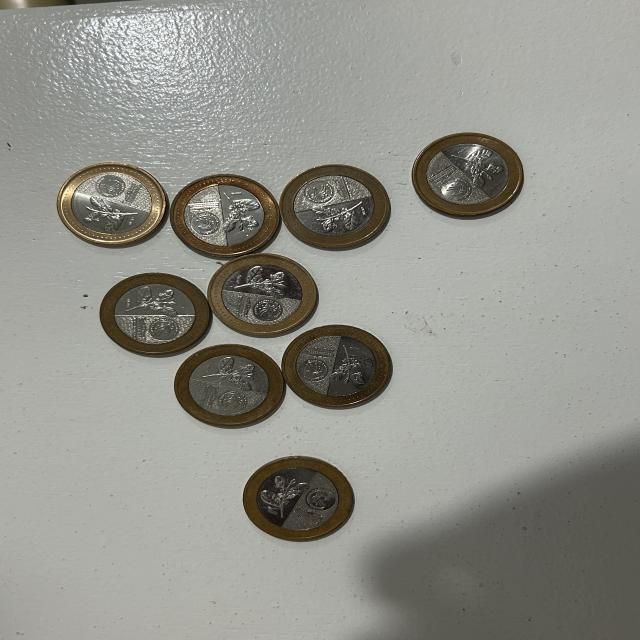20_New_Back: (454, 146, 507, 188), (256, 475, 308, 517), (234, 265, 292, 299), (127, 286, 183, 320), (219, 191, 264, 233), (330, 346, 374, 388), (309, 201, 371, 230), (84, 195, 140, 227), (206, 358, 260, 390)
